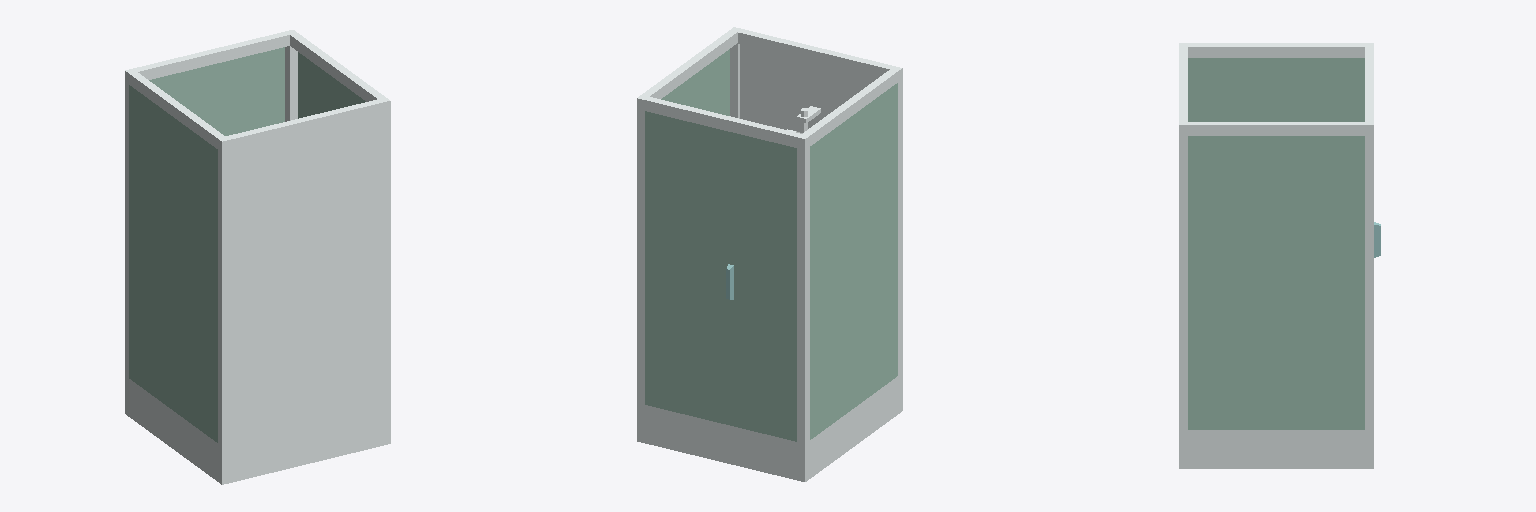
File: shower.obj
3 views of the same model, side by side, from view 1: azimuth 30°, elevation 25°; view 2: azimuth 150°, elevation 25°; view 3: azimuth 270°, elevation 25° (orthographic).
Parts seen in each view (by area): view 1: shower, doorLeft 3, doorRight 3; view 2: shower, doorLeft 3, doorRight 3; view 3: shower.
Boxes of the visible parts, <box> form: shower: <box>125,30,390,484</box>; doorLeft 3: <box>209,47,284,135</box>; doorRight 3: <box>149,66,208,123</box>; shower: <box>637,27,902,481</box>; doorLeft 3: <box>645,111,720,422</box>; doorRight 3: <box>721,130,796,441</box>; shower: <box>1179,43,1373,468</box>.
Bounding box in the file's own units: 5.62 × 10.94 × 5.82.